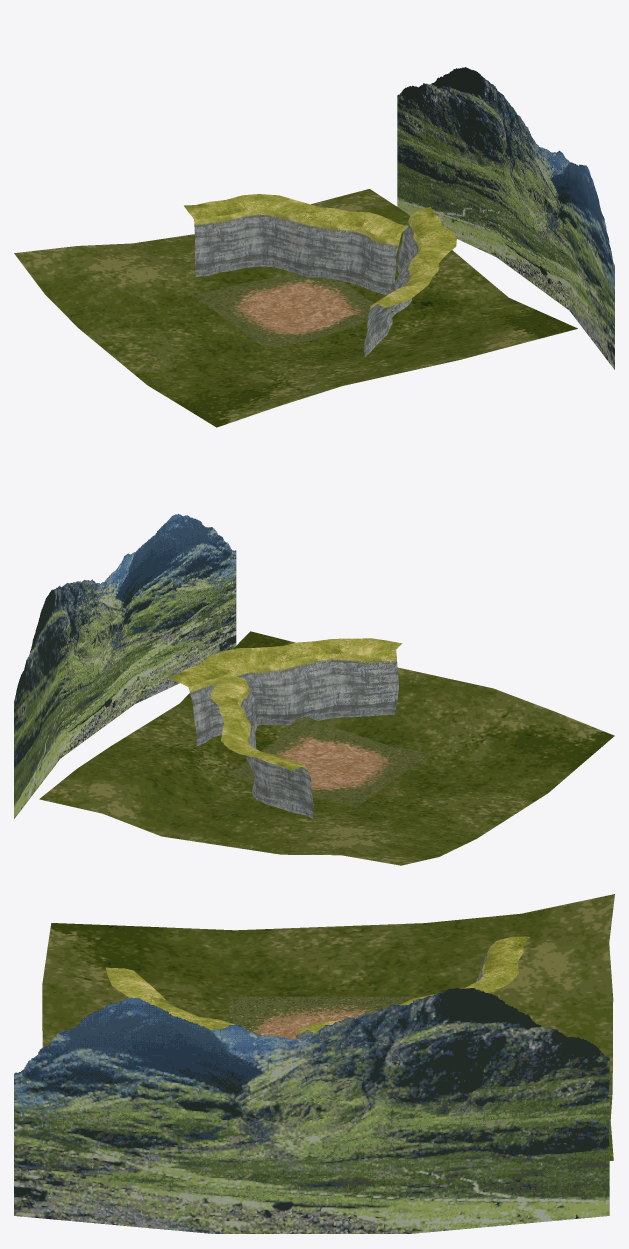
Rendered from field.glb.
3 renders of one model, top to bottom at view 1: azimuth 30°, elevation 25°; view 2: azimuth 150°, elevation 25°; view 3: azimuth 270°, elevation 25°, orthographic. The views are drawn at different scales.
Parts seen in each view (by area): view 1: Plane.003, Plane.004, Plane.001, Plane, Plane.002; view 2: Plane.003, Plane.004, Plane.002, Plane, Plane.001; view 3: Plane.004, Plane.003, Plane, Plane.001, Plane.002.
Boxes of the visible parts, <box> form: Plane.003: <box>14,189,577,427</box>; Plane.004: <box>397,67,614,369</box>; Plane.001: <box>184,194,408,294</box>; Plane: <box>194,272,393,349</box>; Plane.002: <box>364,206,456,357</box>; Plane.003: <box>39,631,614,865</box>; Plane.004: <box>14,514,236,818</box>; Plane.002: <box>167,638,402,745</box>; Plane: <box>226,716,430,807</box>; Plane.001: <box>210,676,313,818</box>; Plane.004: <box>14,988,609,1233</box>; Plane.003: <box>42,894,614,1160</box>; Plane: <box>229,996,421,1039</box>; Plane.001: <box>295,936,530,1039</box>; Plane.002: <box>106,967,261,1035</box>.
Bounding box in the file's own units: 13.03 × 5.94 × 11.98.
5 materials, 5 textured.
